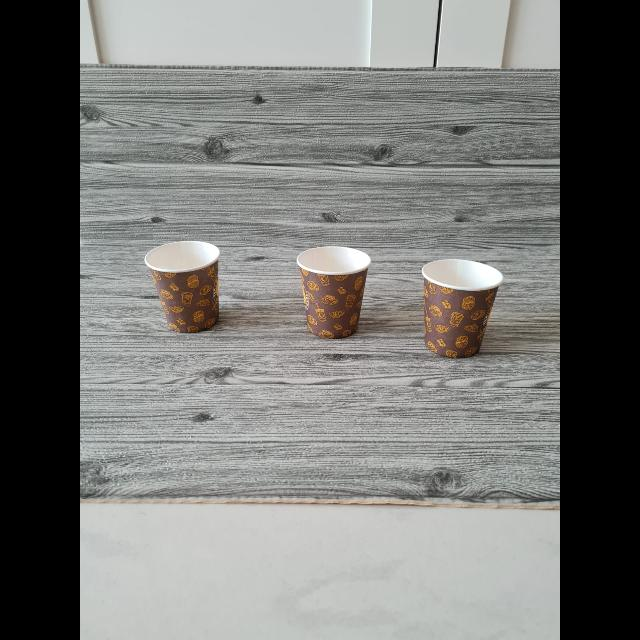trash: (418, 259, 500, 359), (144, 239, 226, 335), (294, 250, 371, 336)
